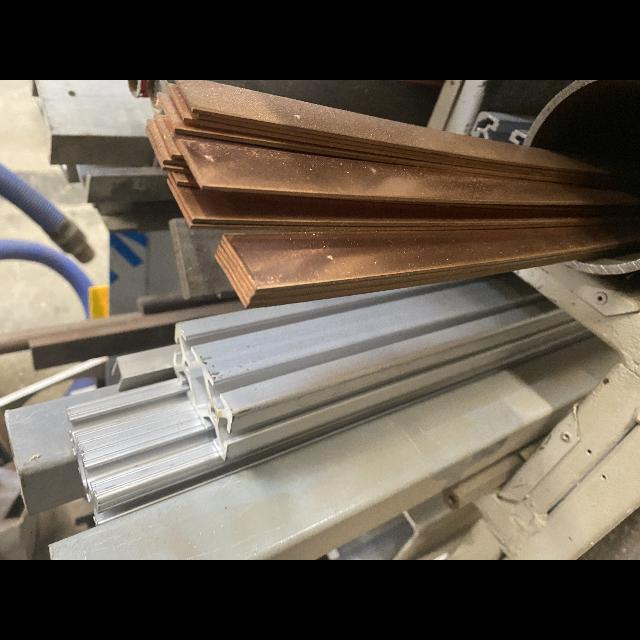Aluminium: (174, 272, 594, 463), (65, 381, 223, 526), (110, 345, 180, 391), (471, 111, 538, 143)
Copper: (166, 82, 592, 182), (157, 90, 598, 186), (173, 81, 610, 175), (179, 136, 637, 201), (214, 241, 636, 309), (220, 224, 639, 291), (168, 173, 606, 224), (165, 178, 610, 227), (146, 128, 189, 174), (147, 122, 185, 167), (154, 114, 184, 158), (172, 171, 198, 187)
Stainless Steel: (522, 80, 604, 146), (570, 250, 640, 276)
